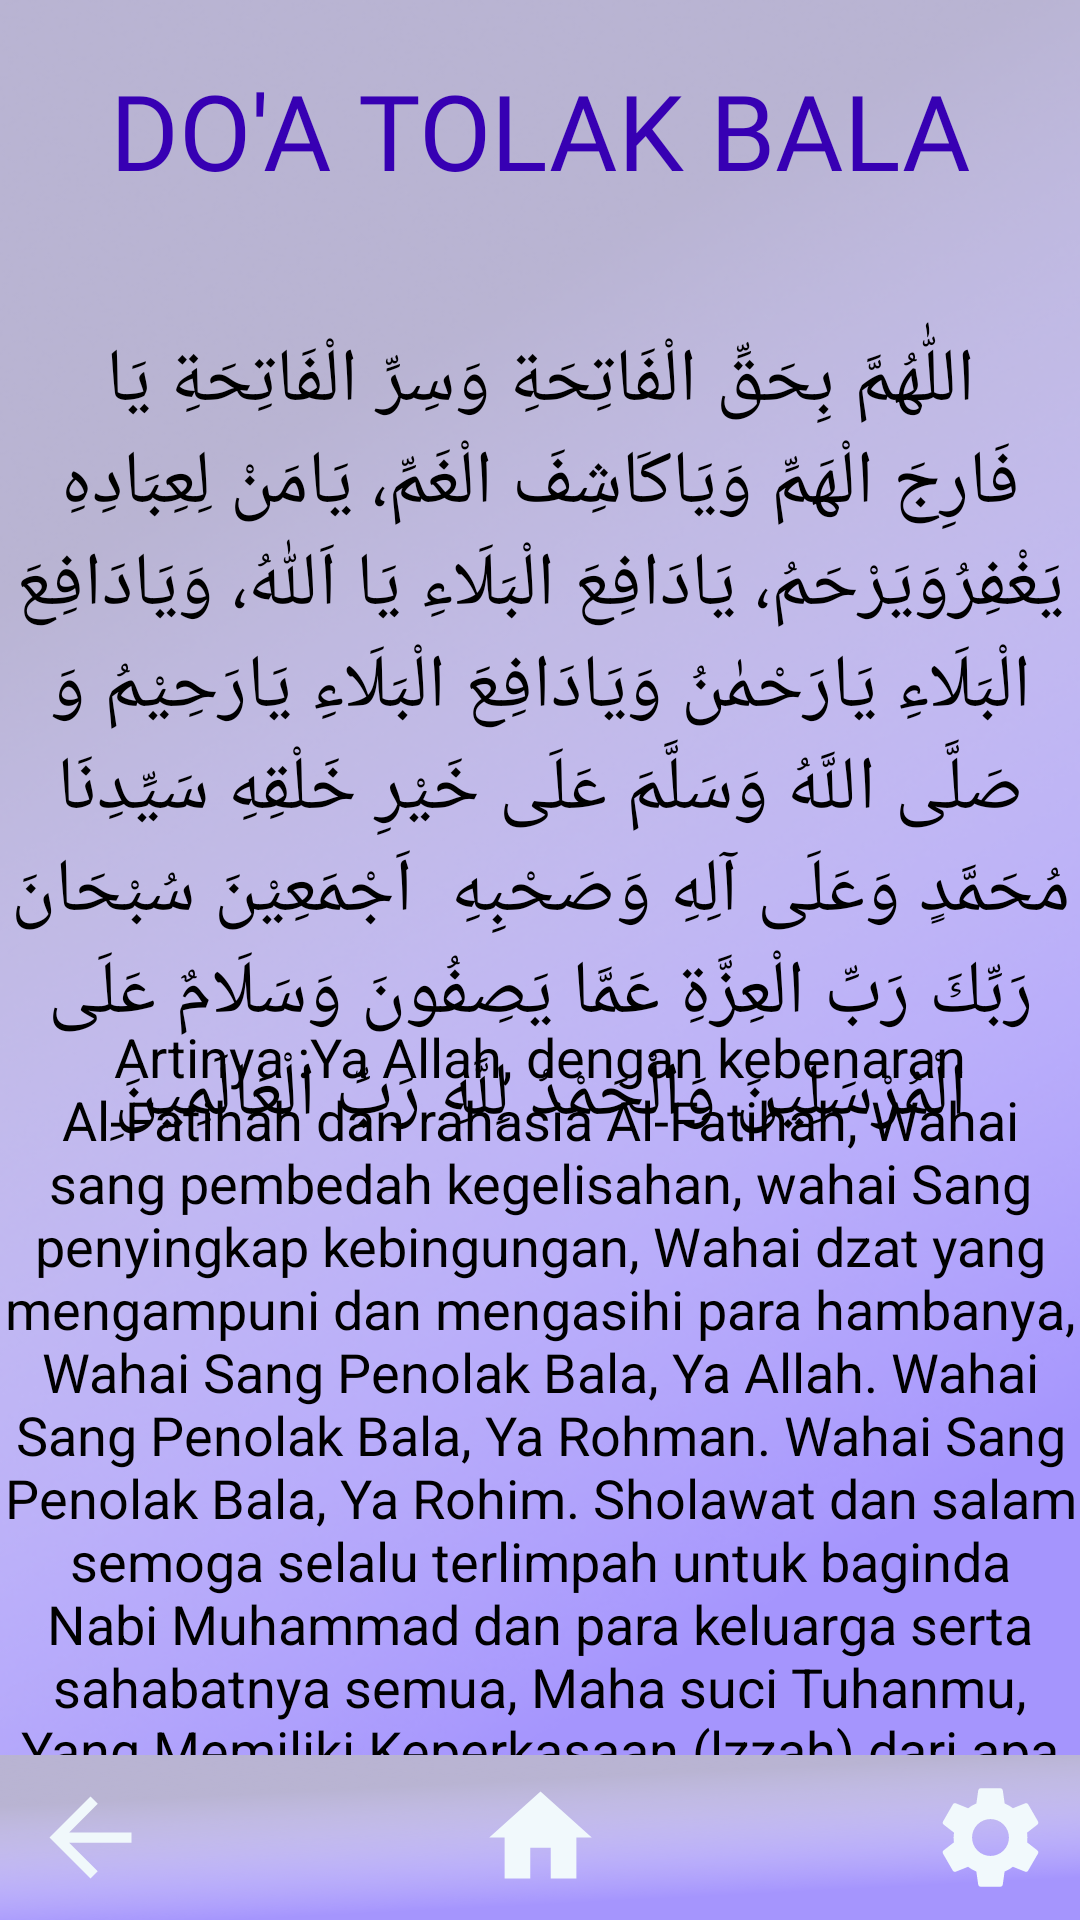

Named icons in this screenshot (1080×1920) and their centers, [x,y]:
arrow back: [90,1837]
home: [540,1837]
settings: [990,1837]
